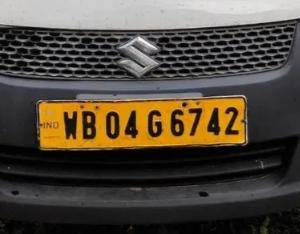0: (103, 108, 122, 143)
2: (224, 104, 243, 139)
4: (121, 105, 140, 141), (204, 101, 223, 137)
6: (169, 105, 187, 140)
7: (185, 103, 207, 137)
B: (80, 107, 99, 143)
G: (144, 106, 165, 144)
W: (61, 101, 81, 144)
